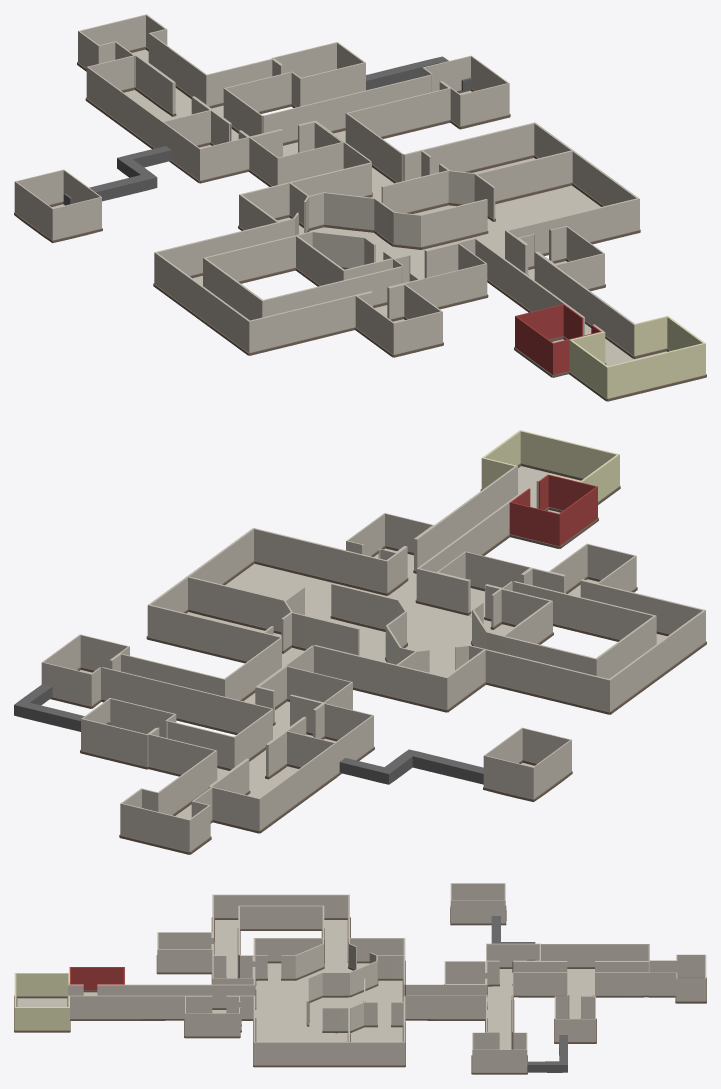
The model's file is level1_donembe.fbx.
3 views of the same model, one above another, from view 1: azimuth 30°, elevation 25°; view 2: azimuth 150°, elevation 25°; view 3: azimuth 270°, elevation 25° (orthographic). The views are drawn at different scales.
Visible parts, largest first — view 1: polySurface320, polySurface335, polySurface313, polySurface372, polySurface314, polySurface336, polySurface327, polySurface329, polySurface381, polySurface382, polySurface322, polySurface312 (+58 smaller); view 2: polySurface320, polySurface372, polySurface329, polySurface316, polySurface322, polySurface335, polySurface314, polySurface312, polySurface382, polySurface327, polySurface336, polySurface352 (+51 smaller); view 3: polySurface320, polySurface321, polySurface327, polySurface314, polySurface319, polySurface326, polySurface383, polySurface352, polySurface331, polySurface420, polySurface405, polySurface304 (+40 smaller).
Boxes of the visible parts, left/top/right/bottom form: polySurface320: left=193, top=158, right=666, bottom=366; polySurface335: left=403, top=122, right=534, bottom=180; polySurface313: left=249, top=291, right=371, bottom=355; polySurface372: left=263, top=74, right=431, bottom=145; polySurface314: left=153, top=252, right=249, bottom=355; polySurface336: left=607, top=343, right=706, bottom=401; polySurface327: left=534, top=252, right=634, bottom=358; polySurface329: left=505, top=198, right=640, bottom=255; polySurface381: left=346, top=88, right=450, bottom=138; polySurface382: left=474, top=150, right=573, bottom=204; polySurface322: left=238, top=162, right=372, bottom=225; polySurface312: left=262, top=266, right=402, bottom=317; polySurface320: left=187, top=466, right=666, bottom=676; polySurface372: left=101, top=667, right=272, bottom=734; polySurface329: left=253, top=528, right=387, bottom=595; polySurface316: left=485, top=649, right=609, bottom=714; polySurface322: left=314, top=645, right=447, bottom=712; polySurface335: left=147, top=604, right=281, bottom=667; polySurface314: left=609, top=610, right=706, bottom=714; polySurface312: left=512, top=581, right=655, bottom=641; polySurface382: left=186, top=576, right=286, bottom=634; polySurface327: left=414, top=466, right=517, bottom=573; polySurface336: left=520, top=430, right=618, bottom=480; polySurface352: left=259, top=743, right=337, bottom=833; polySurface320: left=42, top=920, right=402, bottom=1041; polySurface321: left=253, top=1042, right=405, bottom=1067; polySurface327: left=69, top=995, right=211, bottom=1020; polySurface314: left=213, top=894, right=349, bottom=919; polySurface319: left=239, top=905, right=323, bottom=930; polySurface326: left=97, top=984, right=255, bottom=1009; polySurface383: left=405, top=995, right=486, bottom=1020; polySurface352: left=541, top=944, right=648, bottom=968; polySurface331: left=14, top=1007, right=69, bottom=1032; polySurface420: left=472, top=1049, right=527, bottom=1074; polySurface405: left=157, top=949, right=212, bottom=974; polySurface304: left=185, top=1013, right=239, bottom=1038.
Size of the model in its own units: 12.87 by 0.8857 by 22.51.
